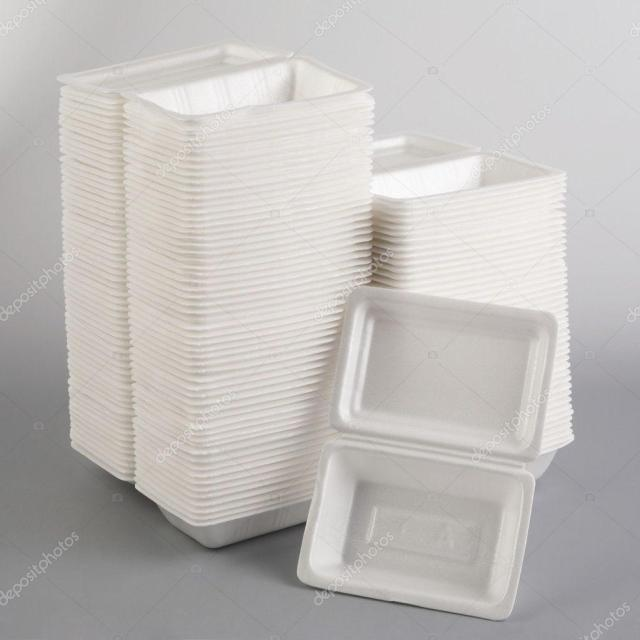styrofoam: (58, 40, 378, 549), (296, 284, 563, 622)
